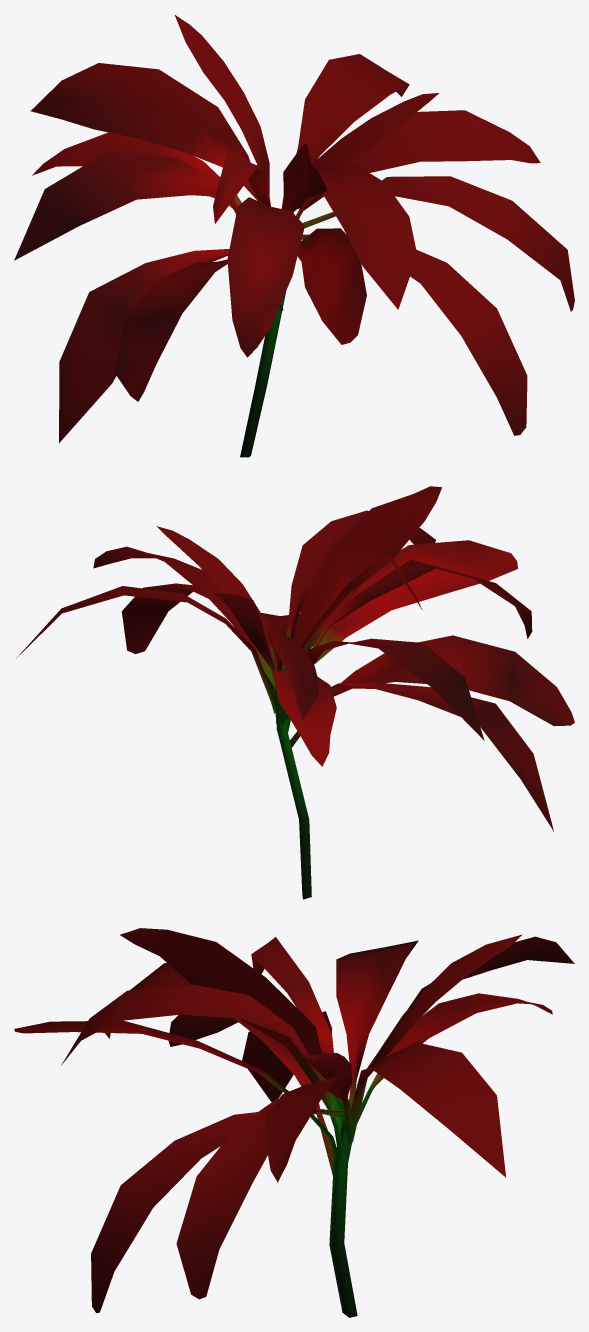
File: Var10_LOD1.fbx
The picture shows the model from 3 angles, top to bottom: view 1: azimuth 30°, elevation 25°; view 2: azimuth 150°, elevation 25°; view 3: azimuth 270°, elevation 25°; orthographic projection. The views are drawn at different scales.
Parts seen in each view (by area): view 1: _22ca_Var10_LOD1; view 2: _22ca_Var10_LOD1; view 3: _22ca_Var10_LOD1.
Boxes of the visible parts, box(x1,y1,x2,y2) form: _22ca_Var10_LOD1: box(14, 15, 574, 457); _22ca_Var10_LOD1: box(16, 486, 574, 899); _22ca_Var10_LOD1: box(14, 928, 574, 1317).
Size of the model in its own units: 32.84 by 24.55 by 32.18.
